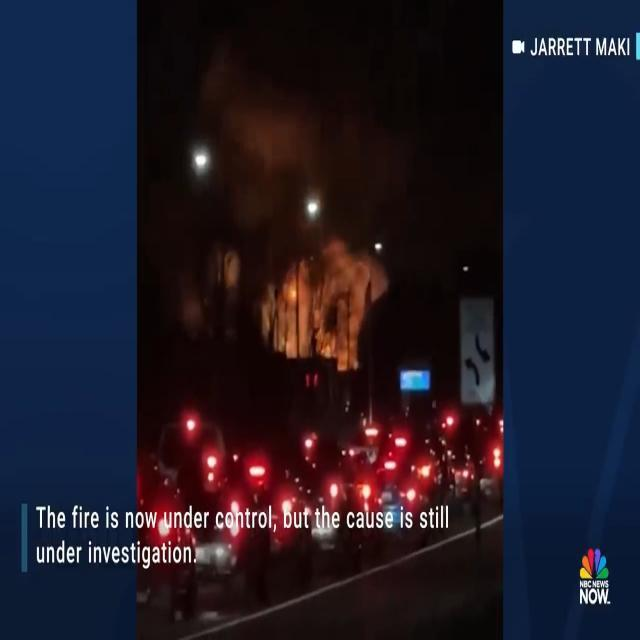fire: (284, 286, 356, 372)
